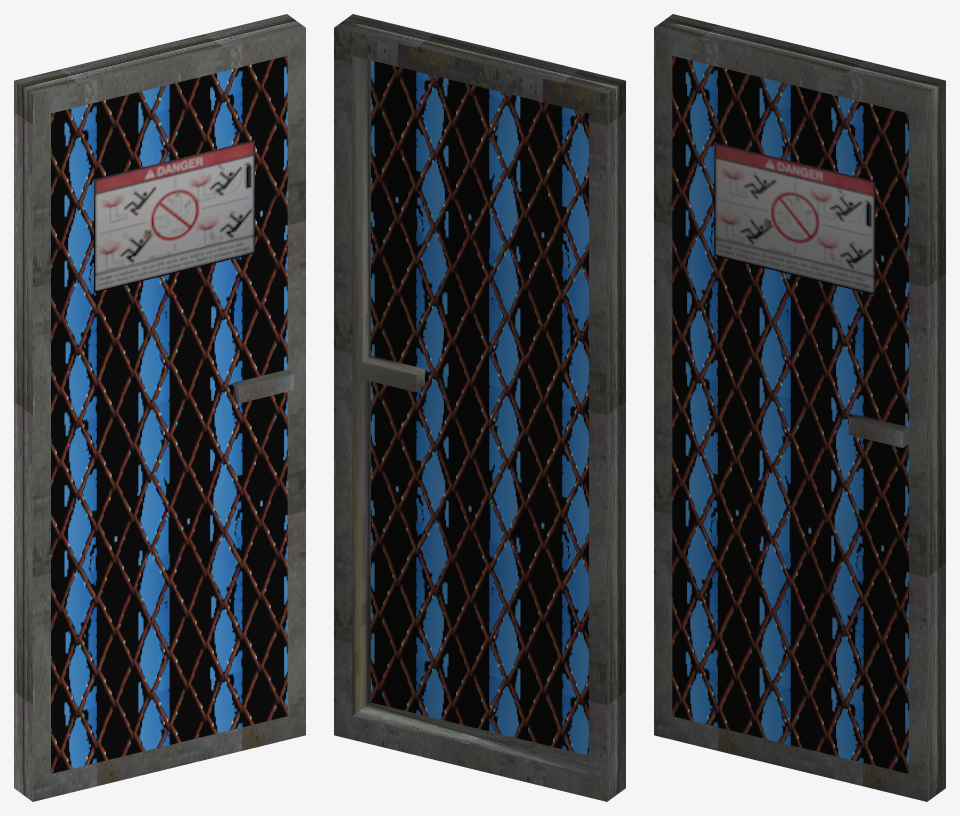
The model's file is FireEscapeDoor.glb.
The picture shows the model from 3 angles, left to right: view 1: azimuth 30°, elevation 25°; view 2: azimuth 150°, elevation 25°; view 3: azimuth 330°, elevation 25°; orthographic projection.
Parts seen in each view (by area): view 1: Cube.062-col; view 2: Cube.062-col; view 3: Cube.062-col.
Part boxes in pixels (bbox=[...]): Cube.062-col: bbox=[14, 14, 305, 801]; Cube.062-col: bbox=[334, 14, 625, 801]; Cube.062-col: bbox=[654, 14, 945, 801].
Size of the model in its own units: 1.01 by 2.5 by 0.1579.
Materials: 3 (3 with a texture image).
